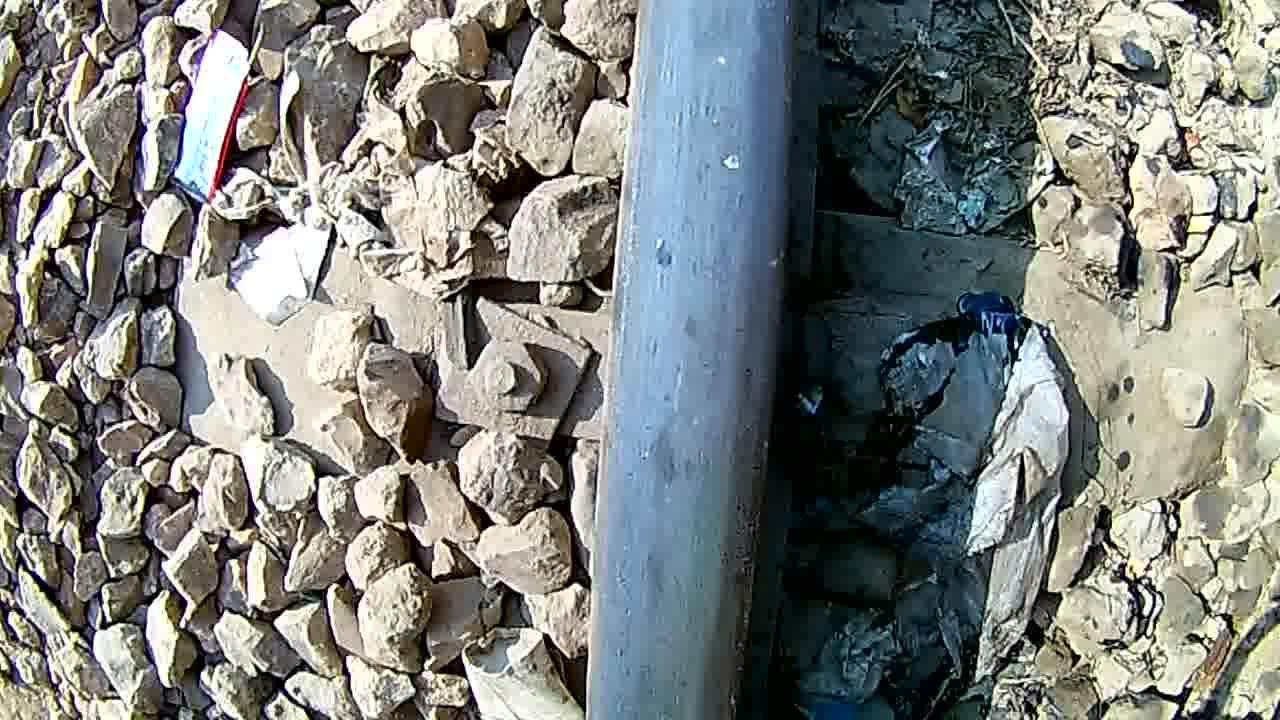bolt_missing: (618, 2, 776, 697)
